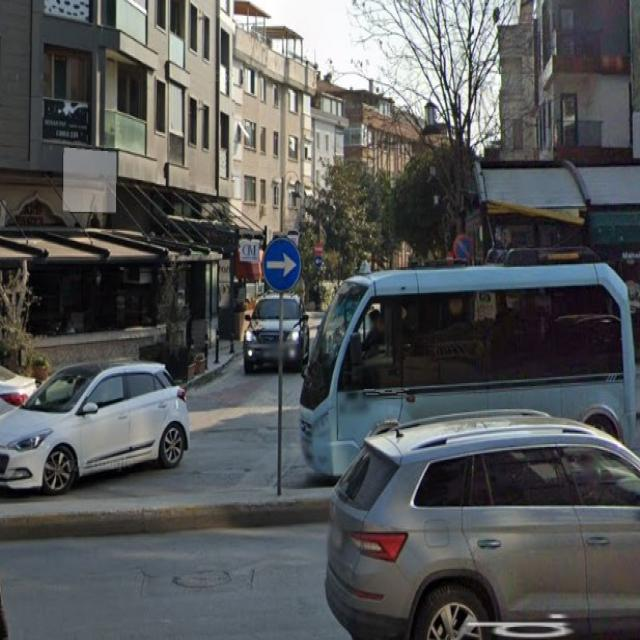Turn Right: (257, 241, 304, 295)
